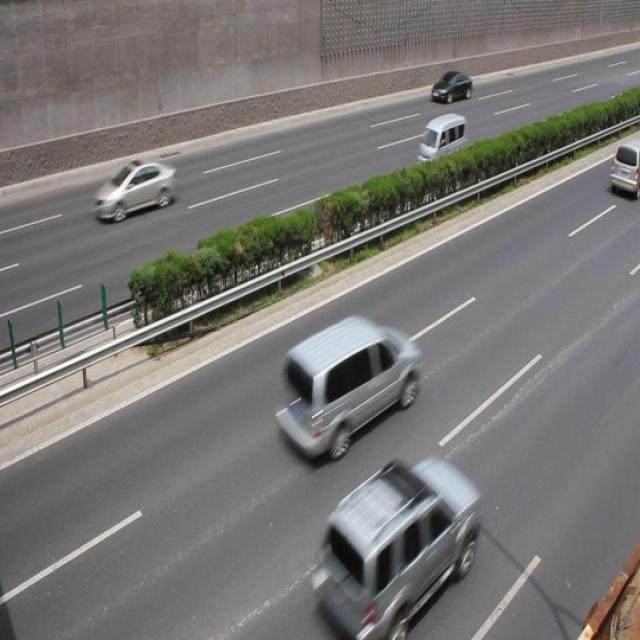car: (310, 456, 480, 640), (94, 163, 178, 221), (429, 70, 474, 102)
truck: (277, 318, 421, 458), (415, 114, 466, 175), (608, 135, 640, 193)
